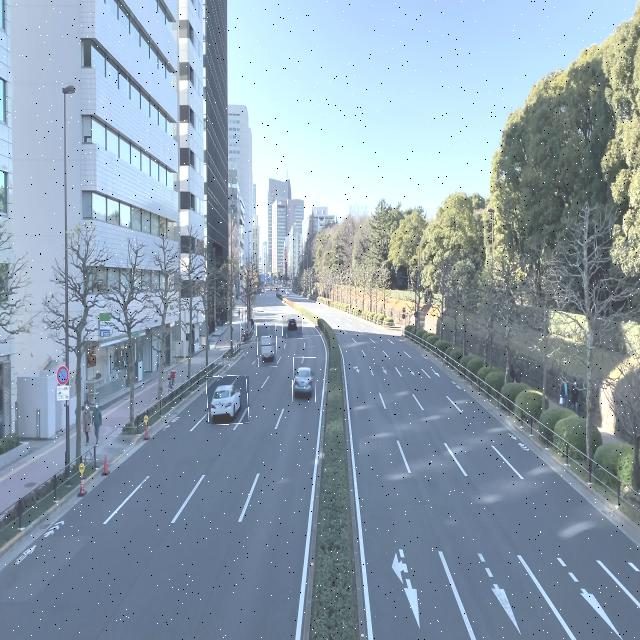Car: (207, 376, 249, 424), (293, 357, 316, 402), (256, 323, 276, 367), (282, 314, 303, 339)
